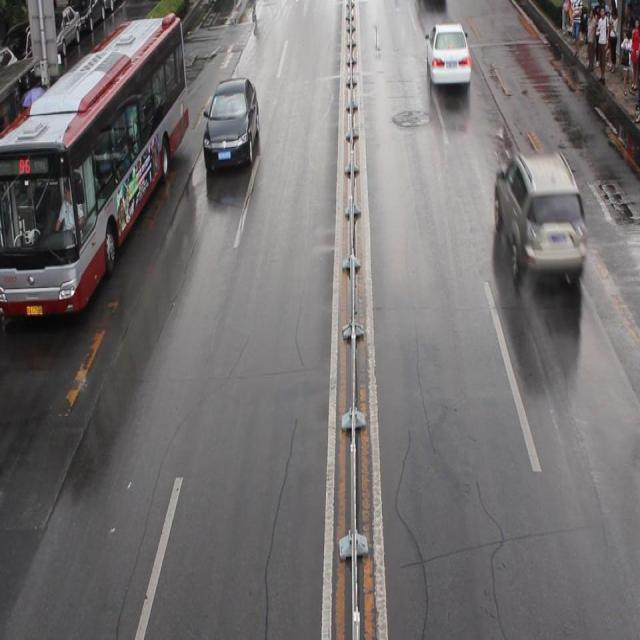car: (492, 154, 587, 276), (204, 78, 260, 168), (425, 26, 470, 88)
van: (1, 20, 189, 318)
